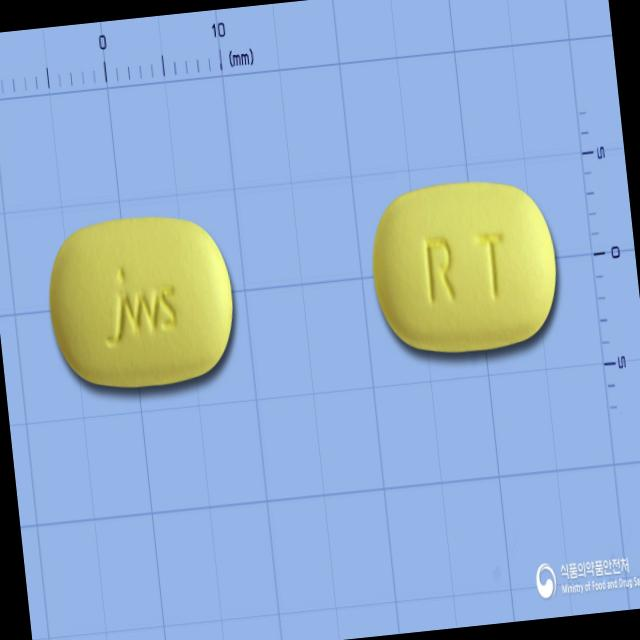Liamclo: (364, 173, 564, 360), (42, 208, 240, 396)
